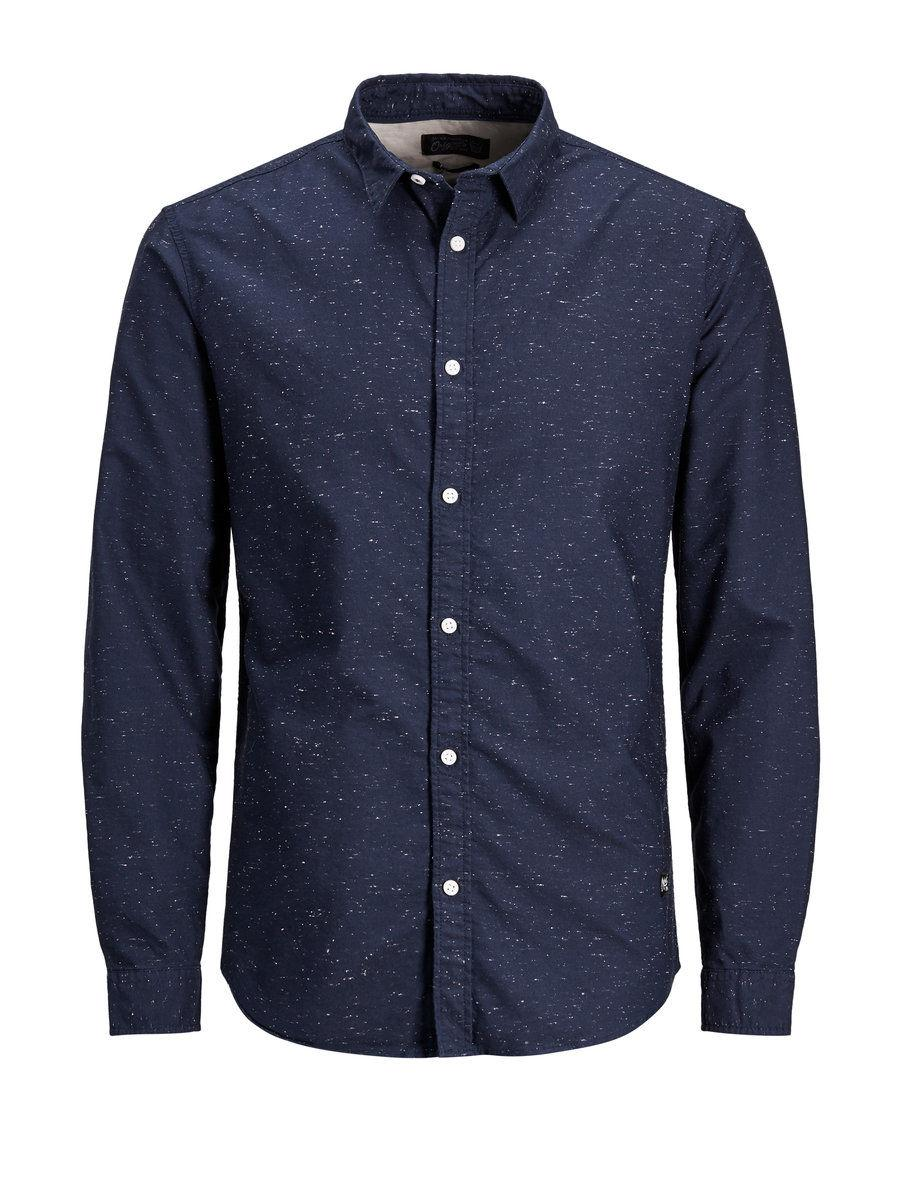teeshirt: (62, 42, 814, 1080)
